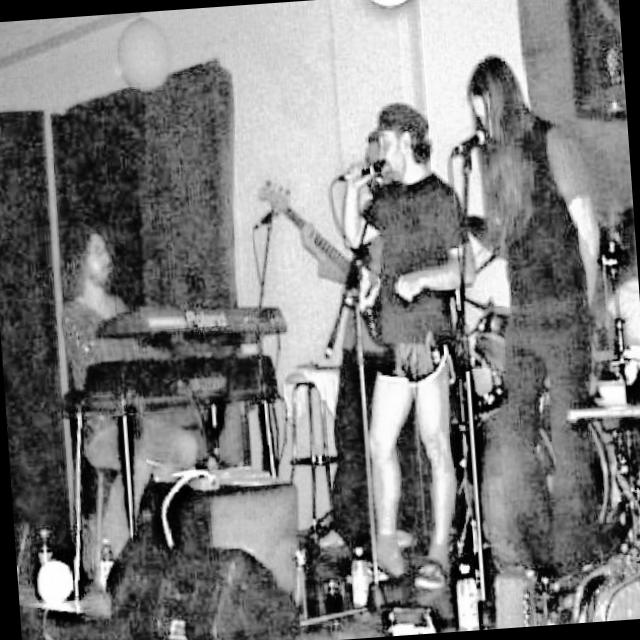Person: (336, 94, 506, 598), (42, 211, 245, 588), (478, 47, 620, 578)
